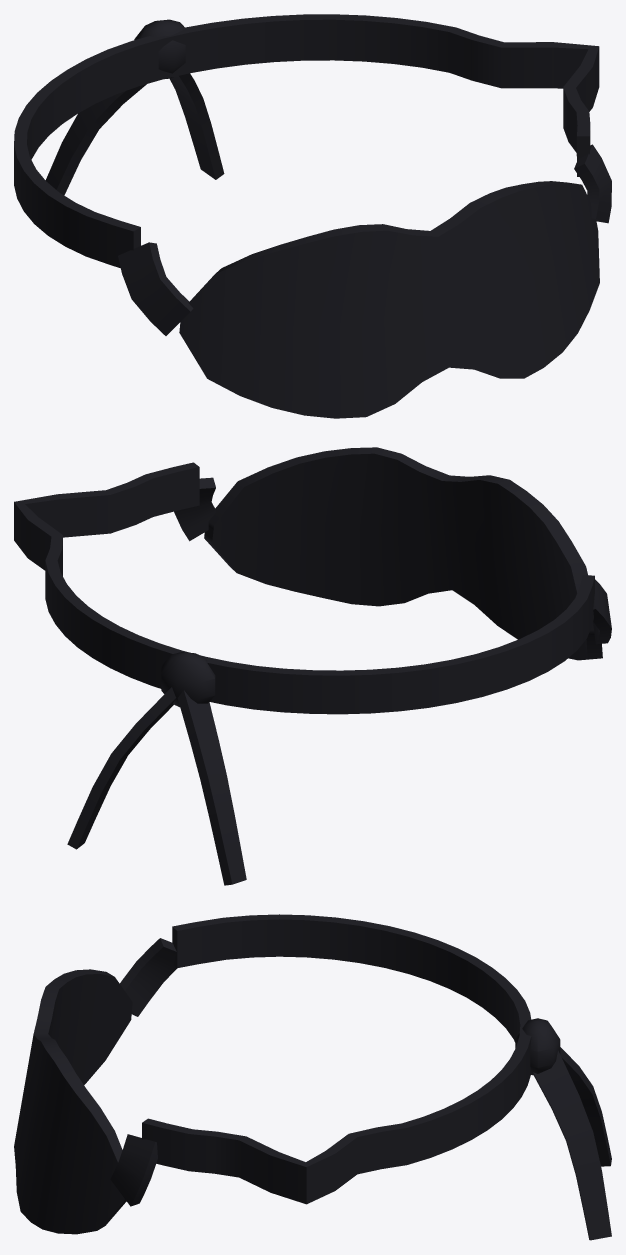
Rendered from Antifaz.fbx.
3 renders of one model, top to bottom at view 1: azimuth 30°, elevation 25°; view 2: azimuth 150°, elevation 25°; view 3: azimuth 270°, elevation 25°, orthographic. The views are drawn at different scales.
Parts seen in each view (by area): view 1: Antifaz; view 2: Antifaz; view 3: Antifaz.
Part boxes in pixels (x1,y1,x2,y2): Antifaz: [14, 14, 611, 418]; Antifaz: [14, 447, 611, 885]; Antifaz: [14, 914, 611, 1240].
Bounding box in the file's own units: 1.14 × 0.39 × 1.14.
Materials: 1 (1 with a texture image).
